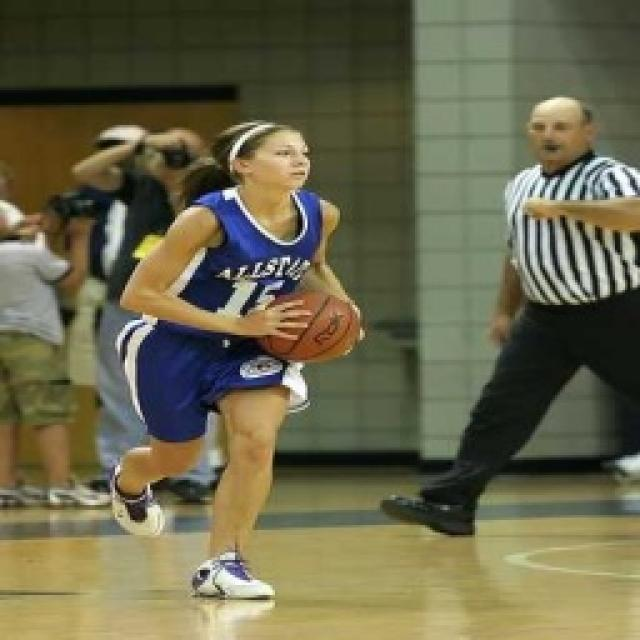rim: (254, 284, 366, 366)
